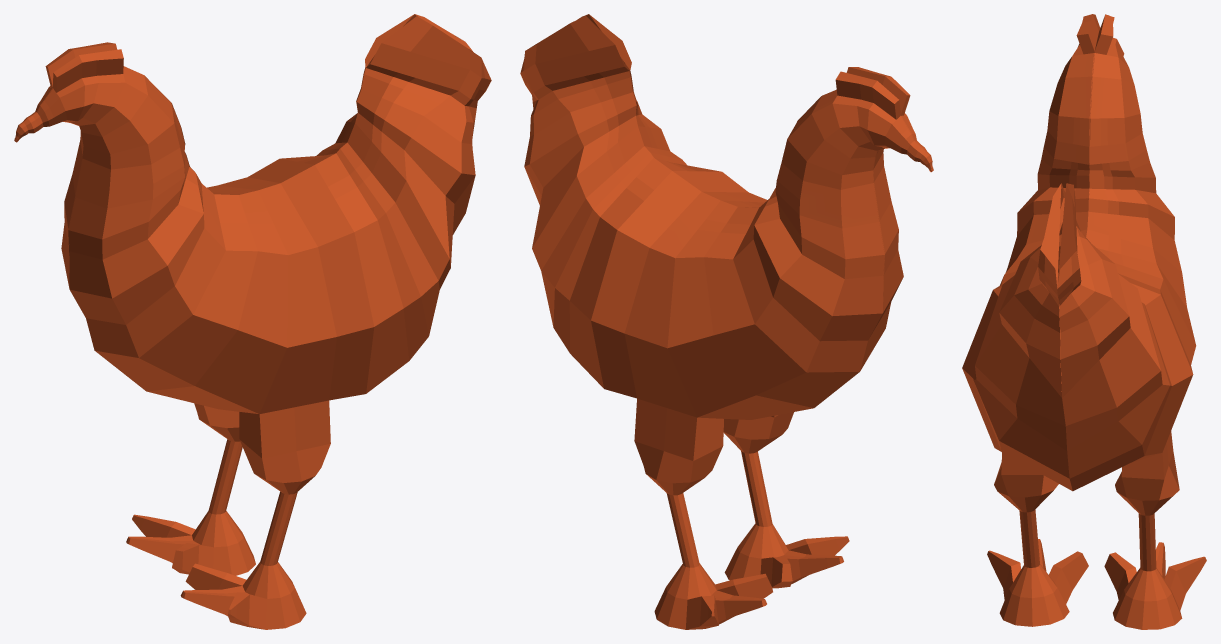
File: pollo.obj
3 renders of one model, left to right at view 1: azimuth 30°, elevation 25°; view 2: azimuth 150°, elevation 25°; view 3: azimuth 270°, elevation 25°, orthographic. The views are drawn at different scales.
Parts seen in each view (by area): view 1: Cubo.005; view 2: Cubo.005; view 3: Cubo.005.
Part boxes in pixels (x1,y1,x2,y2): Cubo.005: (14, 14, 491, 629); Cubo.005: (520, 14, 933, 629); Cubo.005: (962, 14, 1206, 629).
Bounding box in the file's own units: 1.12 × 1.37 × 0.5726.
